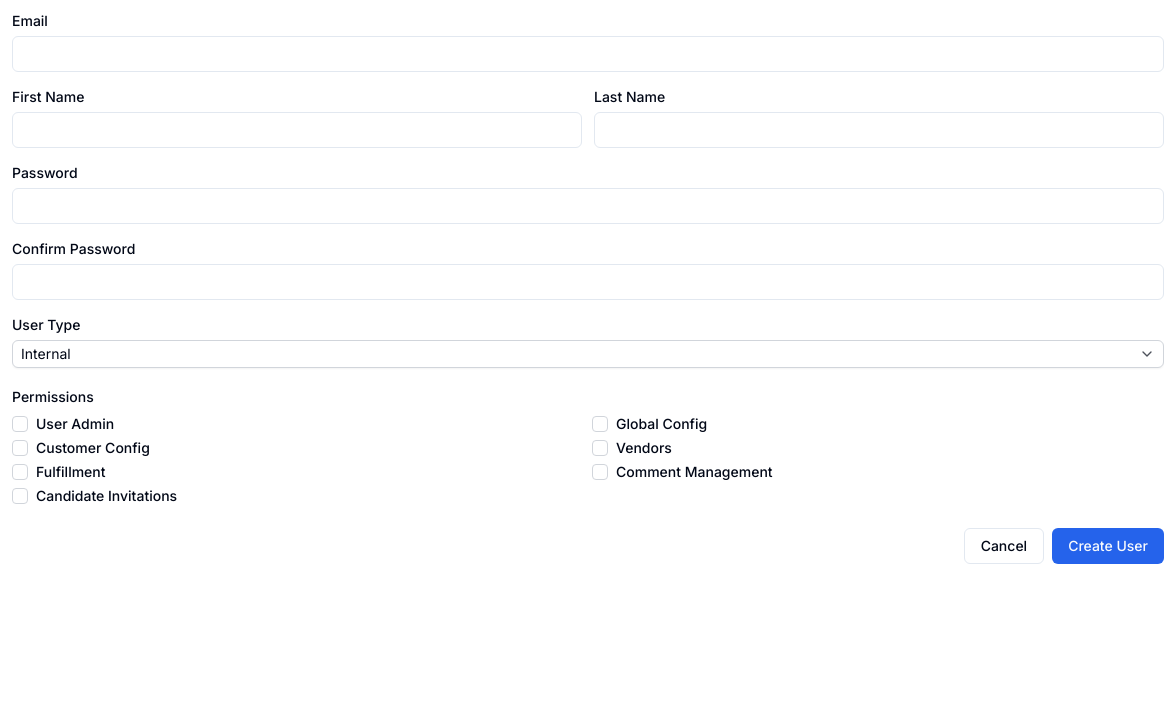
Test: UserForm › Customer API Response Handling › handles paginated API response correctly (bug fix verification)
Click the dropdown named "user type" at (46,354), box [12,340,1164,368]
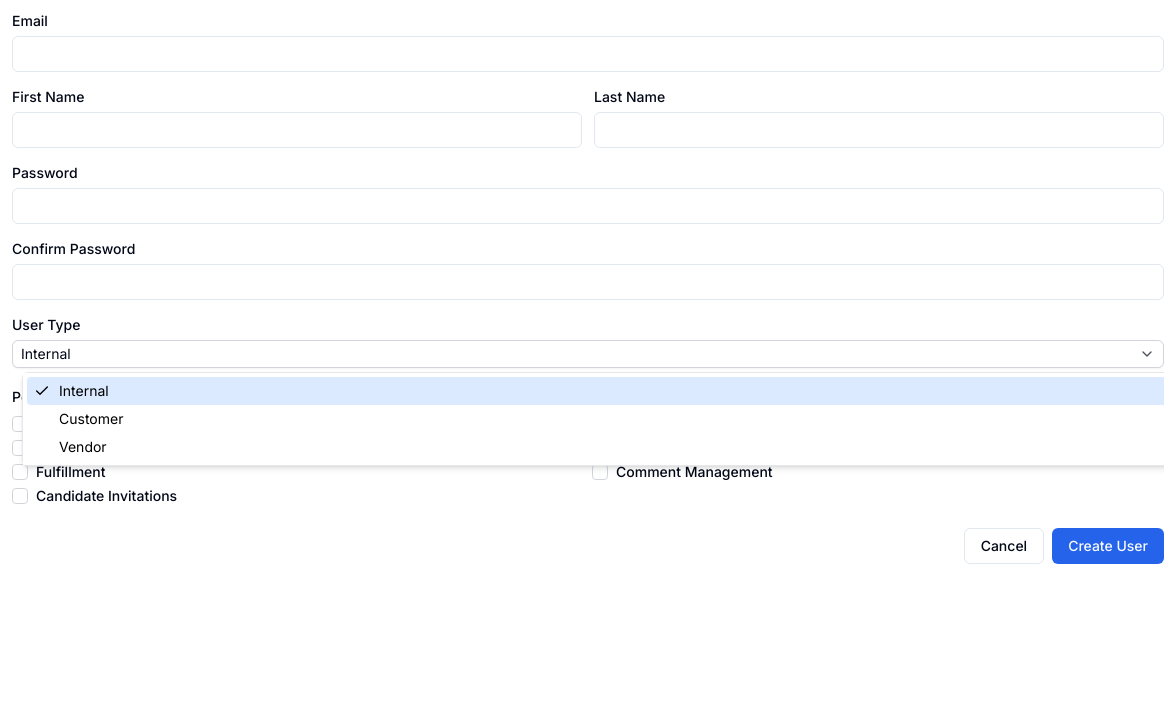
Click the option "Customer" at (91,418), box [59,410,123,427]
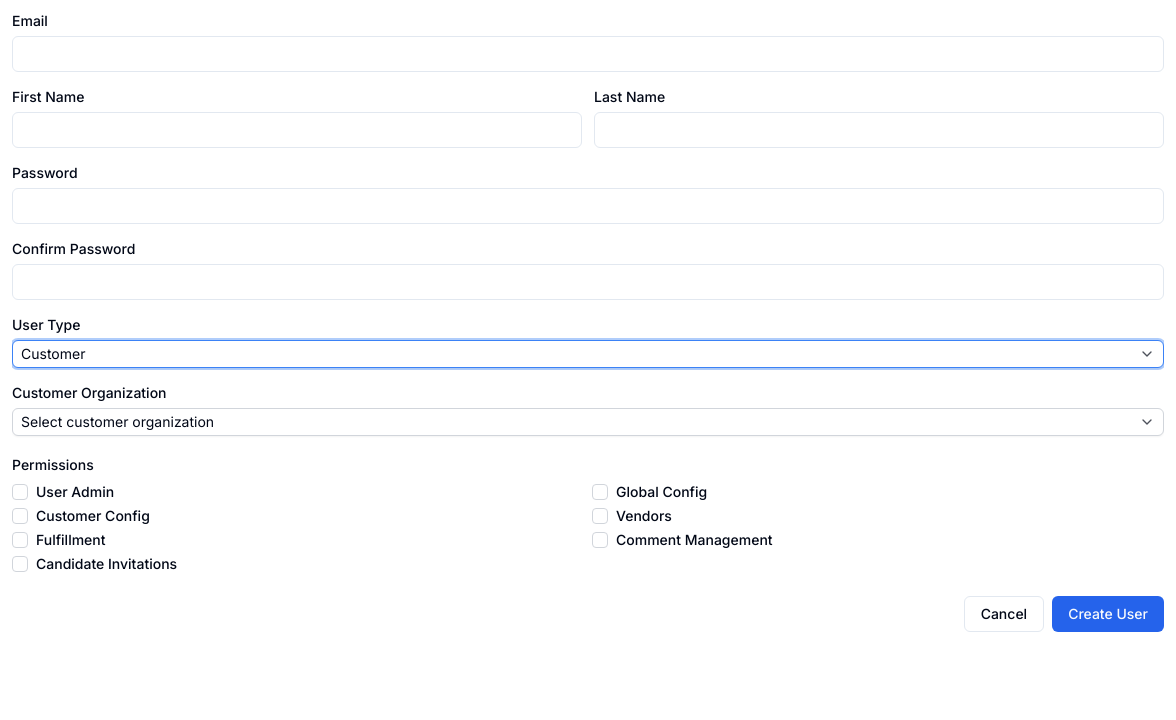
Expected: the text "Customer Organization" is shown, [12,384,166,401]
Expected: the dropdown labelled "Select customer organization" is shown, [12,408,1164,436]
